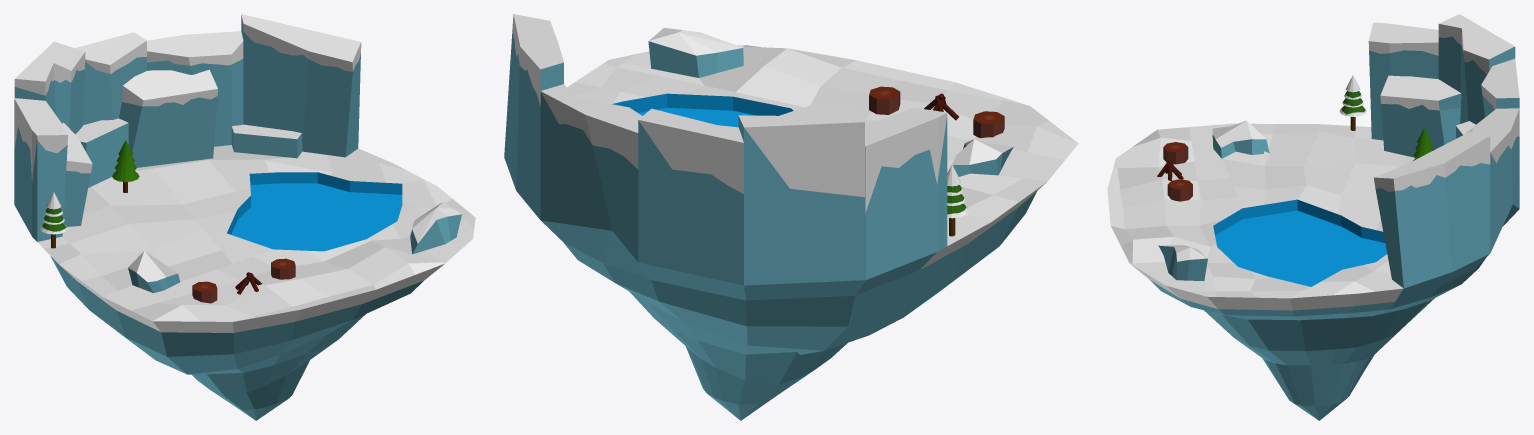
Rendered from Icelandia.fbx.
The picture shows the model from 3 angles, left to right: view 1: azimuth 30°, elevation 25°; view 2: azimuth 150°, elevation 25°; view 3: azimuth 270°, elevation 25°; orthographic projection. The views are drawn at different scales.
Visible parts, largest first — view 1: Vert, snowtree, tree, trunkseat.001, trunkseat; view 2: Vert, snowtree, trunkseat, trunkseat.001; view 3: Vert, snowtree, trunkseat, trunkseat.001.
Part boxes in pixels (x1,y1,x2,y2): Vert: [14, 14, 475, 420]; snowtree: [40, 192, 67, 248]; tree: [112, 140, 139, 192]; trunkseat.001: [192, 281, 217, 303]; trunkseat: [271, 258, 295, 279]; Vert: [504, 14, 1078, 420]; snowtree: [947, 164, 969, 236]; trunkseat: [869, 86, 900, 114]; trunkseat.001: [973, 111, 1004, 137]; Vert: [1107, 14, 1519, 420]; snowtree: [1339, 75, 1366, 130]; trunkseat: [1167, 179, 1192, 201]; trunkseat.001: [1163, 142, 1188, 164].
Size of the model in its own units: 4471 by 3944 by 4459.
